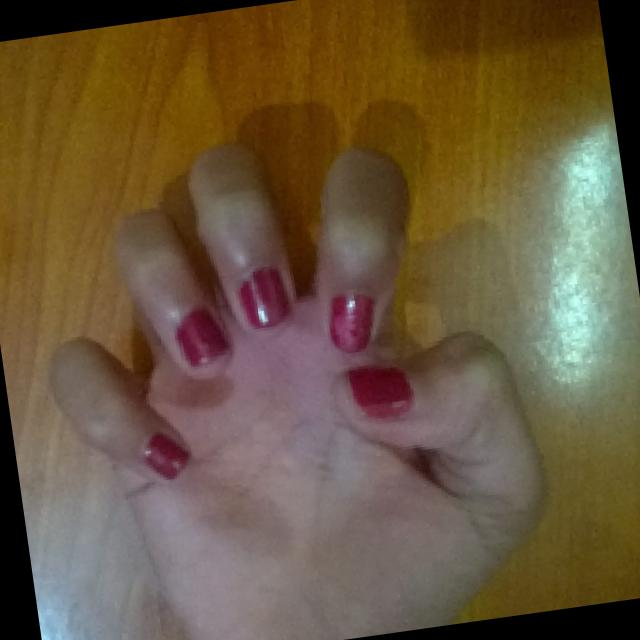Nail: (347, 367, 413, 419), (176, 307, 230, 367), (239, 268, 290, 329), (329, 294, 374, 353), (145, 434, 189, 479)
